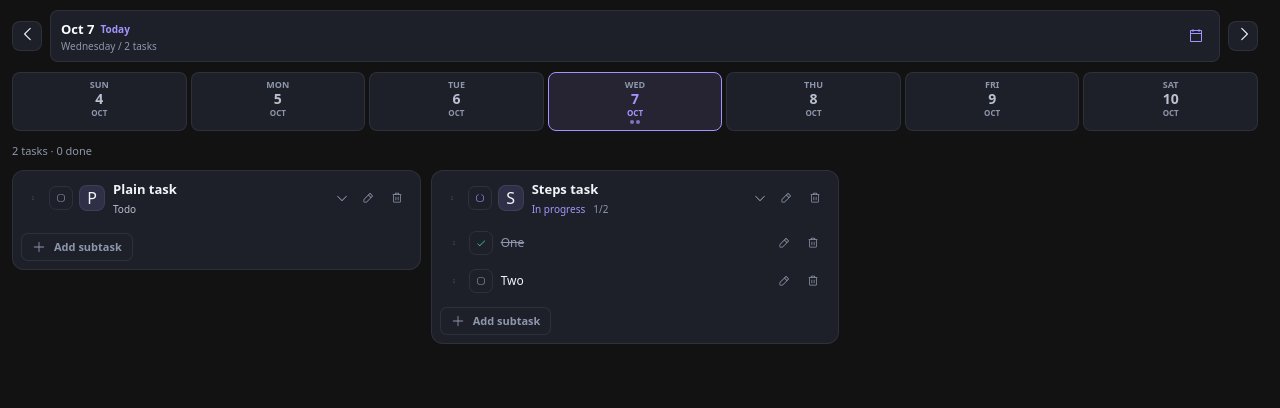
it: the status of a task and its subtasks › finishing the last subtask › does not change the task by itself, and offers to in the feedback strip
The image size is (1280, 408).
Click the button with test id "subtask-status-two": (481, 280) [469,268,493,292]
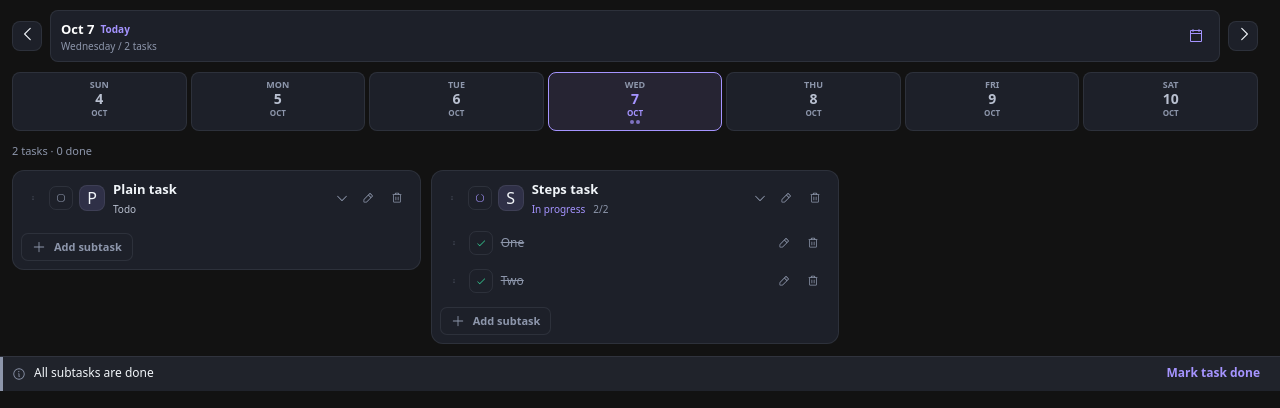
expect the element with test id "feedback-strip" shows "All subtasks are done": met, box [34,364,154,381]
expect the button with test id "feedback-action" reads "Mark task done": met, box [1158,362,1268,386]
